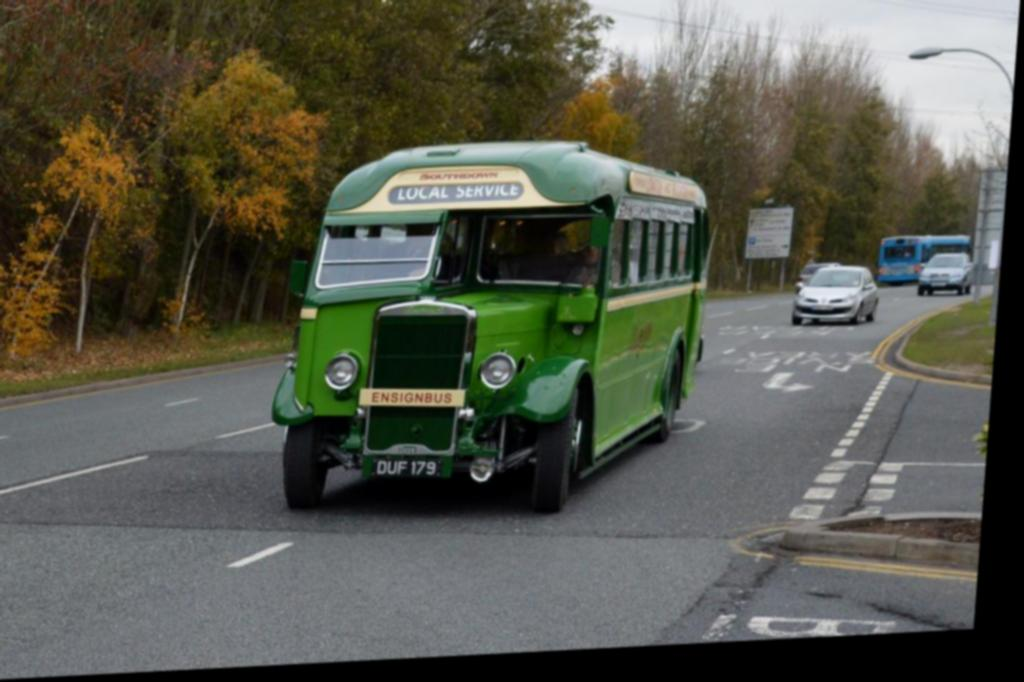License_Plate: (371, 459, 443, 480), (810, 302, 834, 310)
